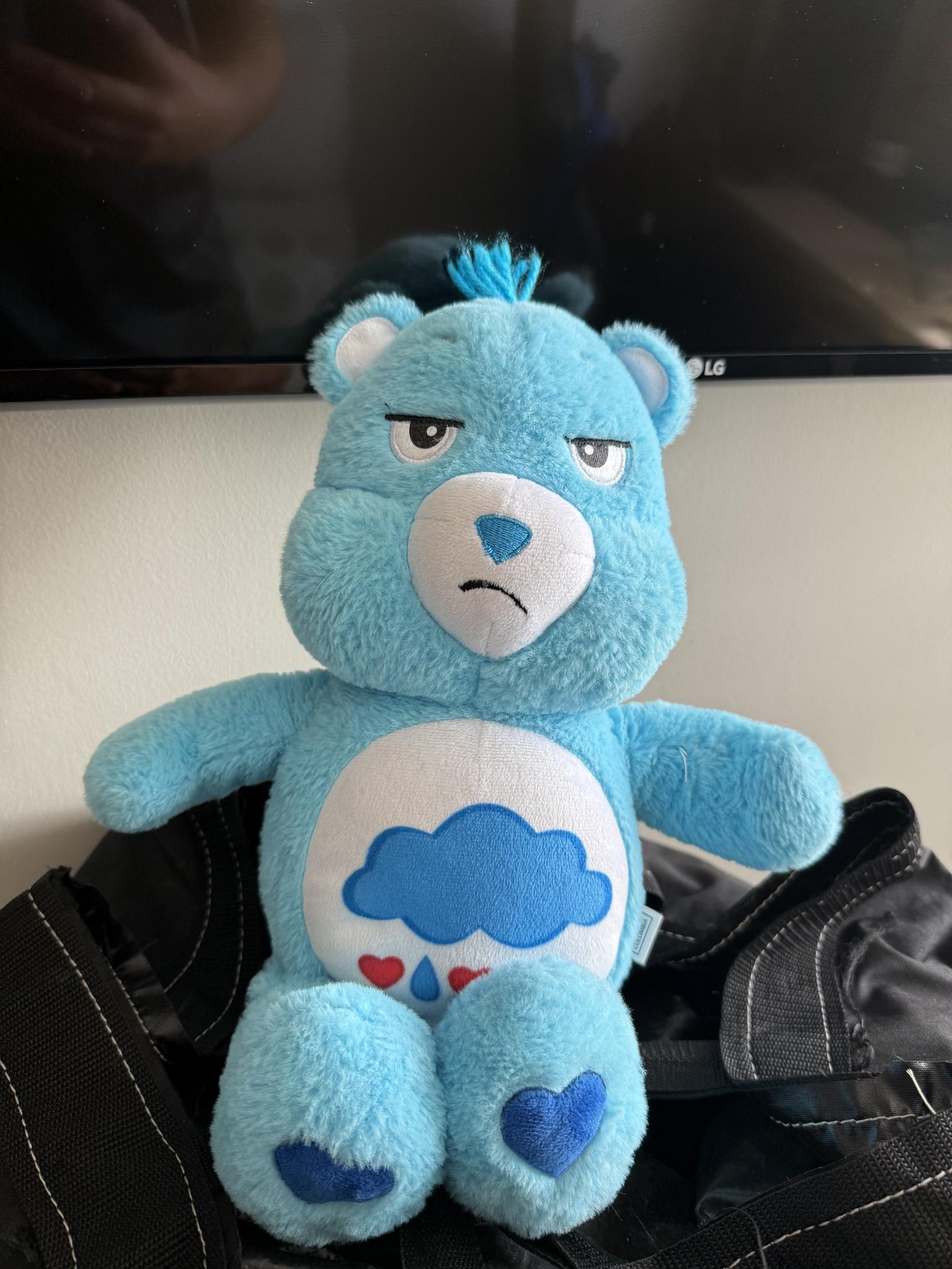peluche_Juan Jose: (189, 235, 707, 1242)
